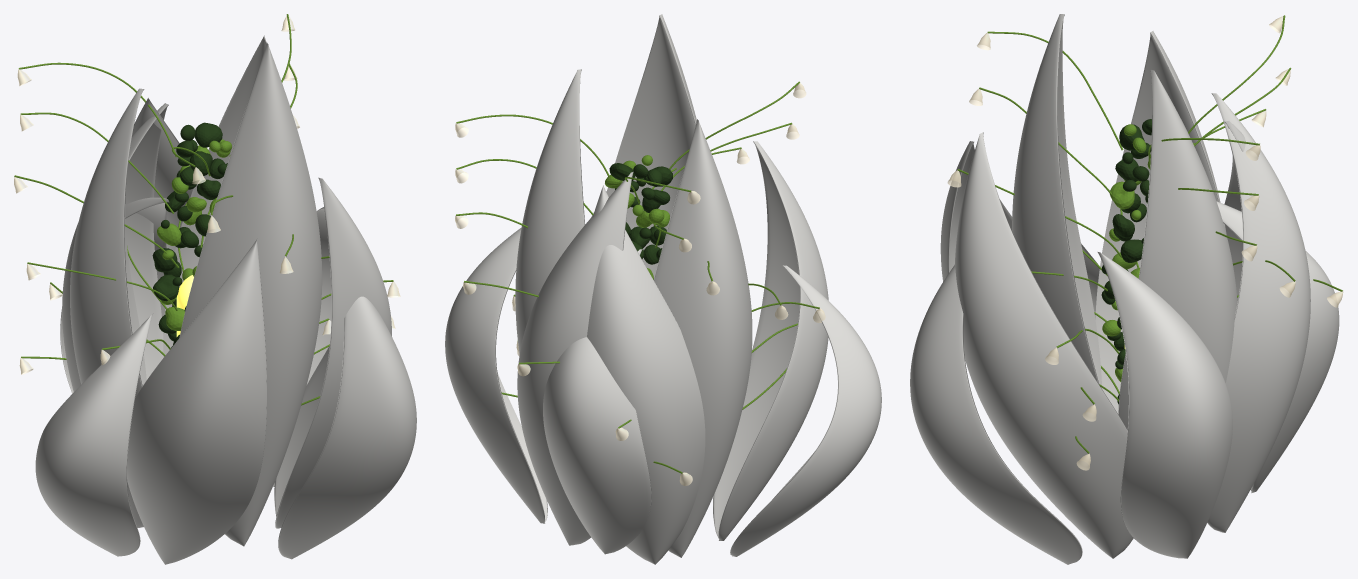
File: bloom_ultra.glb
The picture shows the model from 3 angles, left to right: view 1: azimuth 30°, elevation 25°; view 2: azimuth 150°, elevation 25°; view 3: azimuth 270°, elevation 25°; orthographic projection. The views are drawn at different scales.
Visible parts, largest first — view 1: Glass_Petal_7, Glass_Petal_1, Glass_Petal_8, Glass_Petal_11, Glass_Petal_3, Glass_Petal_4, Layer_03_Botanical_Moss, Glass_Petal_6, Layer_04_Tendrils_And_Blossoms, Glass_Petal_2, Glass_Petal_5, Glass_Petal_9 (+1 smaller); view 2: Glass_Petal_3, Glass_Petal_6, Glass_Petal_7, Glass_Petal_10, Glass_Petal_5, Glass_Petal_9, Glass_Petal_11, Glass_Petal_2, Glass_Petal_1, Layer_04_Tendrils_And_Blossoms, Layer_03_Botanical_Moss; view 3: Glass_Petal_4, Glass_Petal_9, Glass_Petal_5, Glass_Petal_2, Glass_Petal_8, Glass_Petal_1, Glass_Petal_3, Layer_04_Tendrils_And_Blossoms, Glass_Petal_10, Layer_03_Botanical_Moss, Glass_Petal_7, Glass_Petal_6.
Boxes of the visible parts, bbox=[...] form: Glass_Petal_7: bbox=[127, 239, 266, 564]; Glass_Petal_1: bbox=[179, 42, 322, 546]; Glass_Petal_8: bbox=[278, 296, 416, 559]; Glass_Petal_11: bbox=[35, 314, 152, 556]; Glass_Petal_3: bbox=[70, 88, 146, 527]; Glass_Petal_4: bbox=[274, 177, 391, 528]; Layer_03_Botanical_Moss: bbox=[152, 122, 231, 347]; Glass_Petal_6: bbox=[62, 103, 168, 391]; Layer_04_Tendrils_And_Blossoms: bbox=[14, 14, 400, 405]; Glass_Petal_2: bbox=[163, 35, 266, 357]; Glass_Petal_5: bbox=[132, 98, 193, 251]; Glass_Petal_9: bbox=[273, 207, 331, 486]; Glass_Petal_3: bbox=[654, 119, 752, 557]; Glass_Petal_6: bbox=[587, 185, 705, 564]; Glass_Petal_7: bbox=[713, 141, 828, 540]; Glass_Petal_10: bbox=[543, 249, 651, 554]; Glass_Petal_5: bbox=[517, 171, 633, 545]; Glass_Petal_9: bbox=[445, 227, 547, 523]; Glass_Petal_11: bbox=[730, 265, 881, 556]; Glass_Petal_2: bbox=[515, 69, 585, 353]; Glass_Petal_1: bbox=[606, 14, 696, 278]; Layer_04_Tendrils_And_Blossoms: bbox=[455, 81, 825, 485]; Layer_03_Botanical_Moss: bbox=[605, 155, 672, 279]; Glass_Petal_4: bbox=[955, 132, 1133, 558]; Glass_Petal_9: bbox=[1097, 251, 1232, 558]; Glass_Petal_5: bbox=[1207, 93, 1310, 532]; Glass_Petal_2: bbox=[1118, 69, 1237, 429]; Glass_Petal_8: bbox=[910, 265, 1082, 564]; Glass_Petal_1: bbox=[1012, 14, 1102, 388]; Glass_Petal_3: bbox=[1095, 31, 1226, 413]; Layer_04_Tendrils_And_Blossoms: bbox=[947, 15, 1343, 470]; Glass_Petal_10: bbox=[1216, 201, 1339, 492]; Layer_03_Botanical_Moss: bbox=[1101, 119, 1151, 404]; Glass_Petal_7: bbox=[940, 141, 1012, 281]; Glass_Petal_6: bbox=[1224, 121, 1245, 300].
Size of the model in its own units: 2.65 by 3.44 by 2.52.
